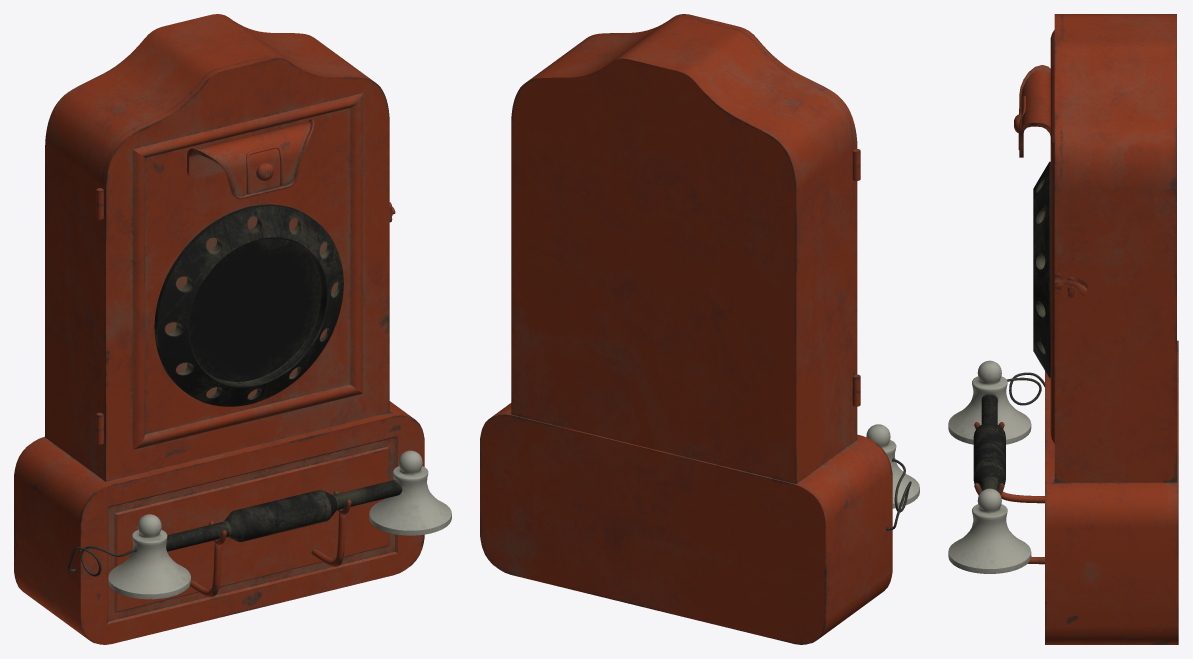
Rendered from ph_vintage_telephone_wall_clock.glb.
The picture shows the model from 3 angles, left to right: view 1: azimuth 30°, elevation 25°; view 2: azimuth 150°, elevation 25°; view 3: azimuth 270°, elevation 25°; orthographic projection.
Visible parts, largest first — view 1: ph_vintage_telephone_wall_clock; view 2: ph_vintage_telephone_wall_clock; view 3: ph_vintage_telephone_wall_clock.
Part boxes in pixels (x1,y1,x2,y2): ph_vintage_telephone_wall_clock: [14, 14, 451, 644]; ph_vintage_telephone_wall_clock: [480, 14, 919, 644]; ph_vintage_telephone_wall_clock: [948, 14, 1178, 644].
Size of the model in its own units: 0.3428 by 0.5012 by 0.1926.
Materials: 2 (2 with a texture image).
